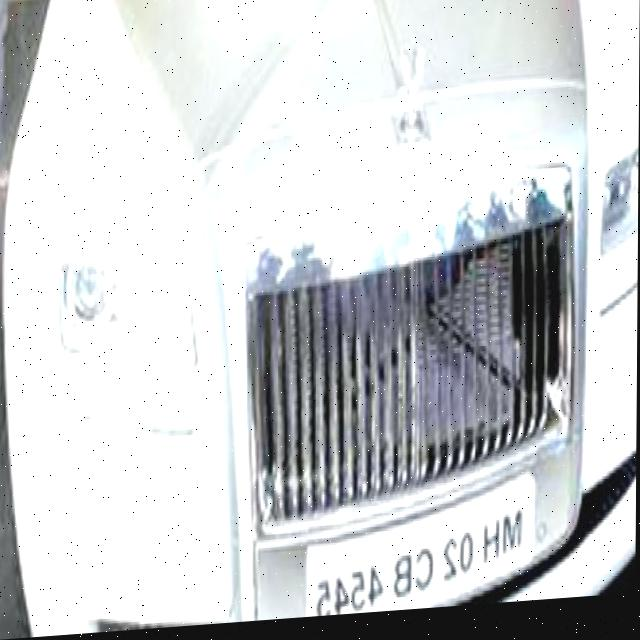plate: (306, 475, 538, 622)
